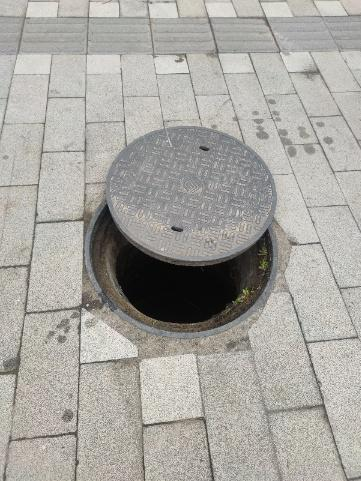wellcover: (94, 129, 280, 335)
